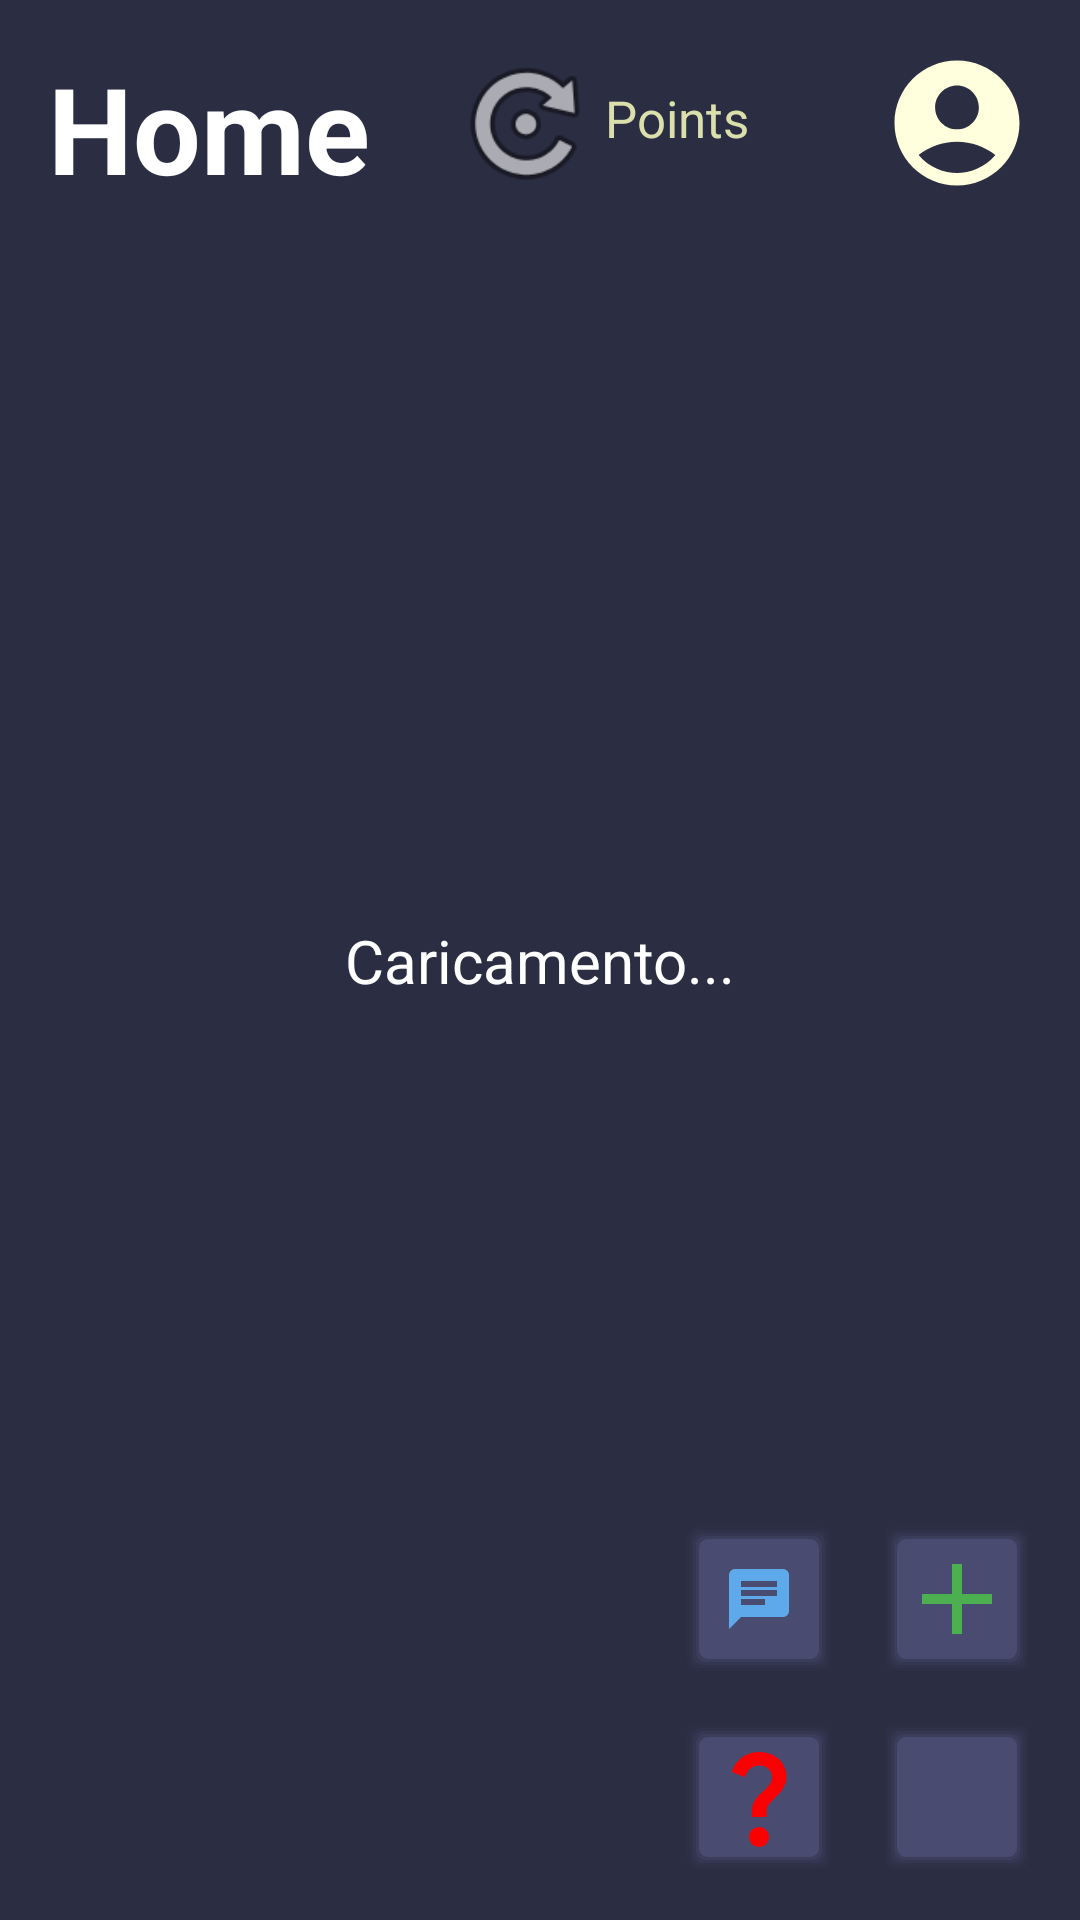

Named icons in this screenshot (1080w x 1920h) and their bounding boxes, (x1, y1, x2, y2):
account circle: (894, 60, 1020, 186)
add: (894, 1536, 1020, 1662)
chat: (696, 1536, 822, 1662)
question mark: (696, 1734, 822, 1860)
rotate: (472, 69, 578, 179)
